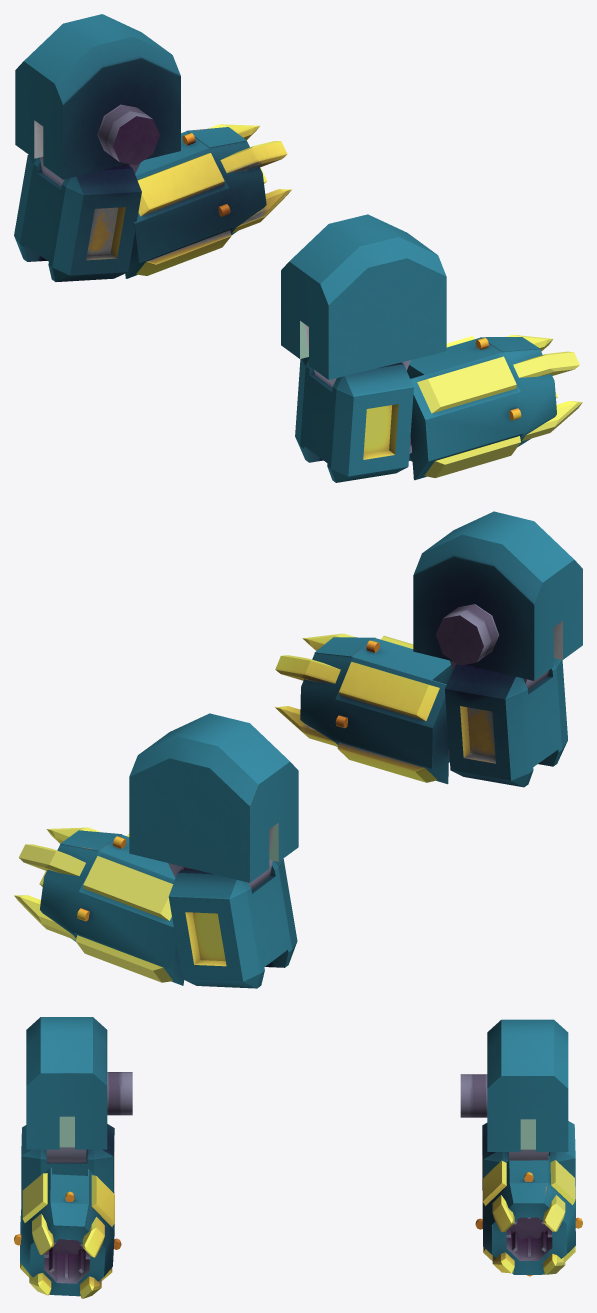
The model's file is Player_Attack_Arm7.obj.
The picture shows the model from 3 angles, top to bottom: view 1: azimuth 30°, elevation 25°; view 2: azimuth 150°, elevation 25°; view 3: azimuth 270°, elevation 25°; orthographic projection. The views are drawn at different scales.
Parts seen in each view (by area): view 1: Object005, Object003, Object001, Object007, Object006, Object002; view 2: Object003, Object005, Object001, Object007, Object006, Object002; view 3: Object005, Object003, Object001, Object007, Object002, Object006.
Boxes of the visible parts, x1,y1,x2,y2 form: Object005: [15, 14, 180, 179]; Object003: [281, 214, 446, 379]; Object001: [407, 334, 582, 480]; Object007: [125, 124, 291, 278]; Object006: [14, 155, 141, 281]; Object002: [295, 357, 413, 482]; Object003: [413, 511, 582, 680]; Object005: [129, 713, 298, 882]; Object001: [275, 633, 453, 784]; Object007: [14, 827, 184, 985]; Object006: [168, 858, 297, 988]; Object002: [445, 658, 567, 787]; Object005: [460, 1019, 568, 1151]; Object003: [26, 1017, 132, 1149]; Object001: [14, 1167, 121, 1298]; Object007: [475, 1156, 582, 1276]; Object002: [21, 1124, 114, 1202]; Object006: [482, 1121, 575, 1217].
Size of the model in its own units: 37.88 by 34.94 by 83.71.
Materials: 1 (1 with a texture image).
